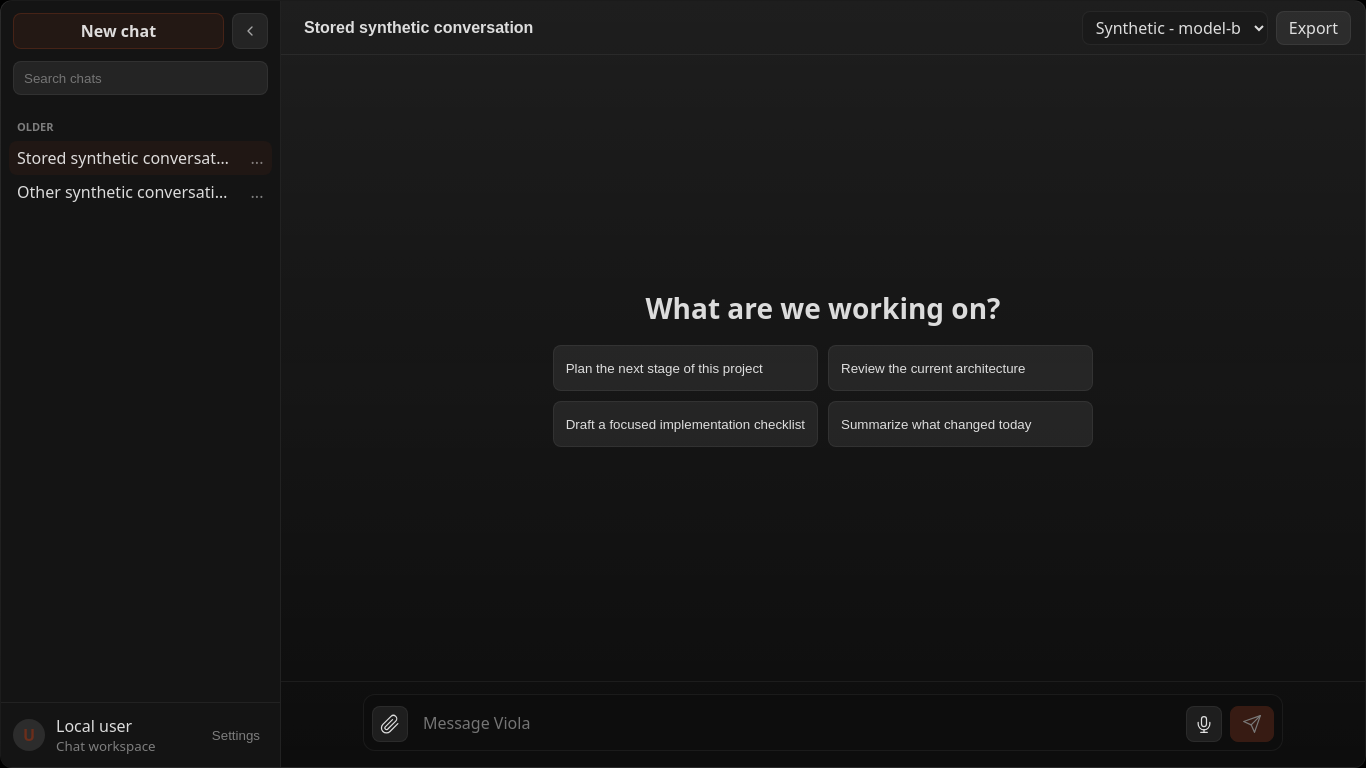
Test case: Chat thread model restoration through actual apiFetch › does not accept a different thread snapshot as completion of the selected read
Check: the field showing "Stored synthetic conversation" is shown, box [295,10,1070,44]
Type "Keep this draft" into the text box labelled "Message Viola".
click(797, 722); type("Keep this draft")  # box [416,703,1178,742]
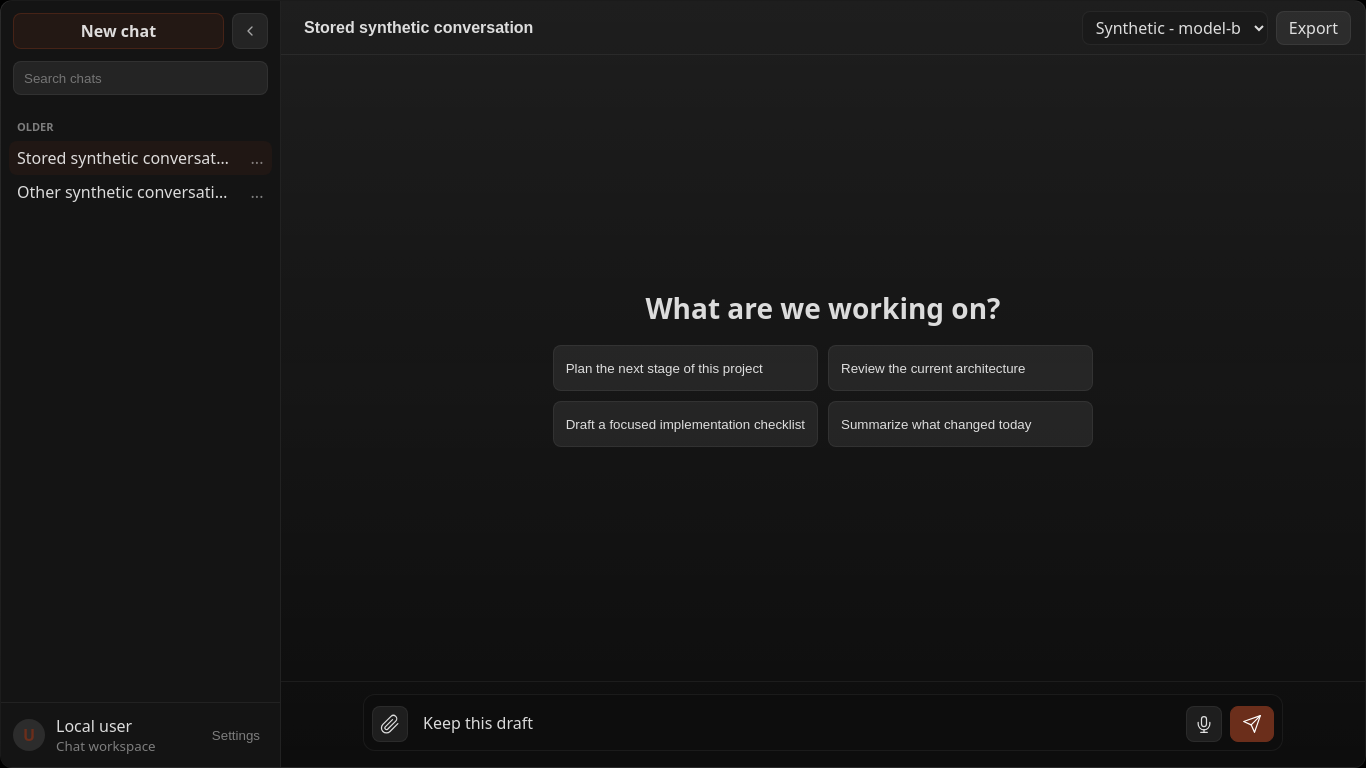
Click the button "Other synthetic conversation".
click(124, 192)  # box [9,175,238,209]
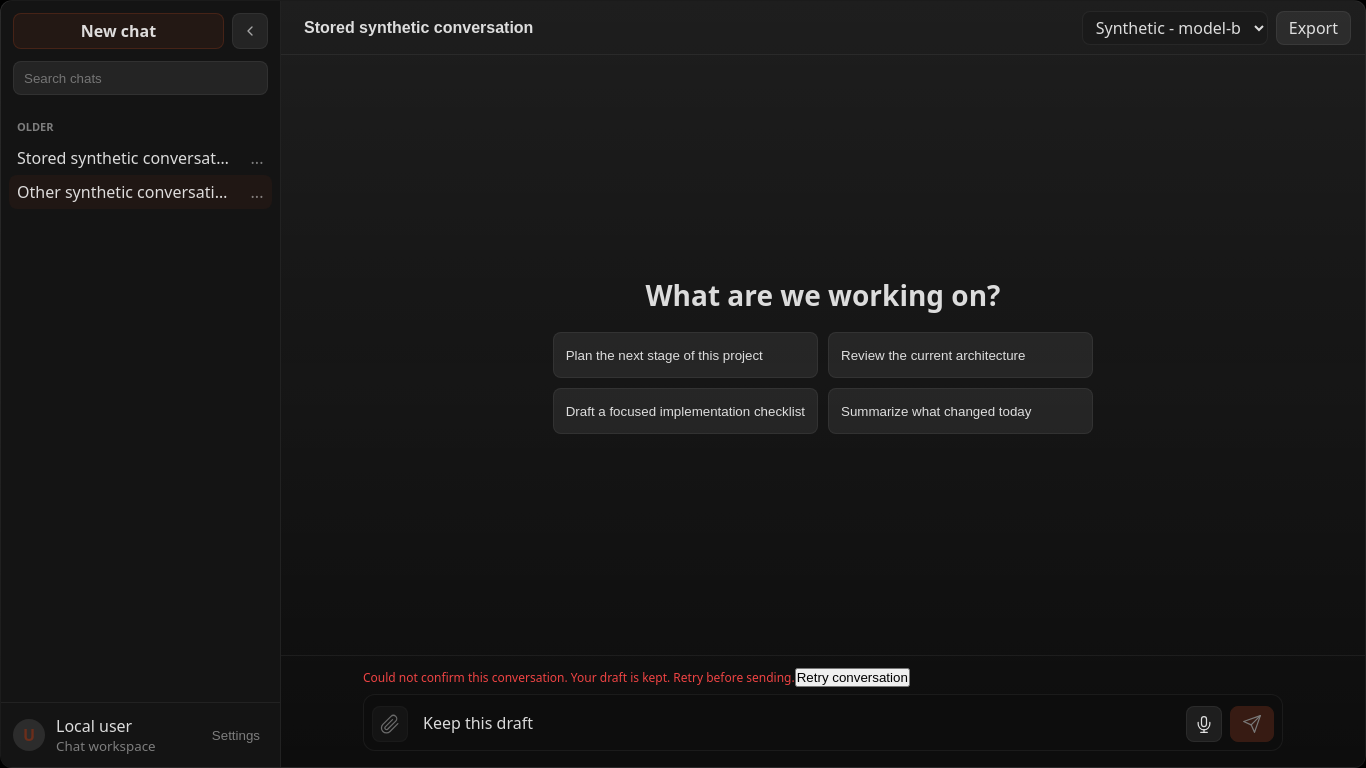
Check: the message shows "Retry before sending", box [363,669,795,686]
Check: the button named "Send message" is disabled, box [1230,706,1274,742]
